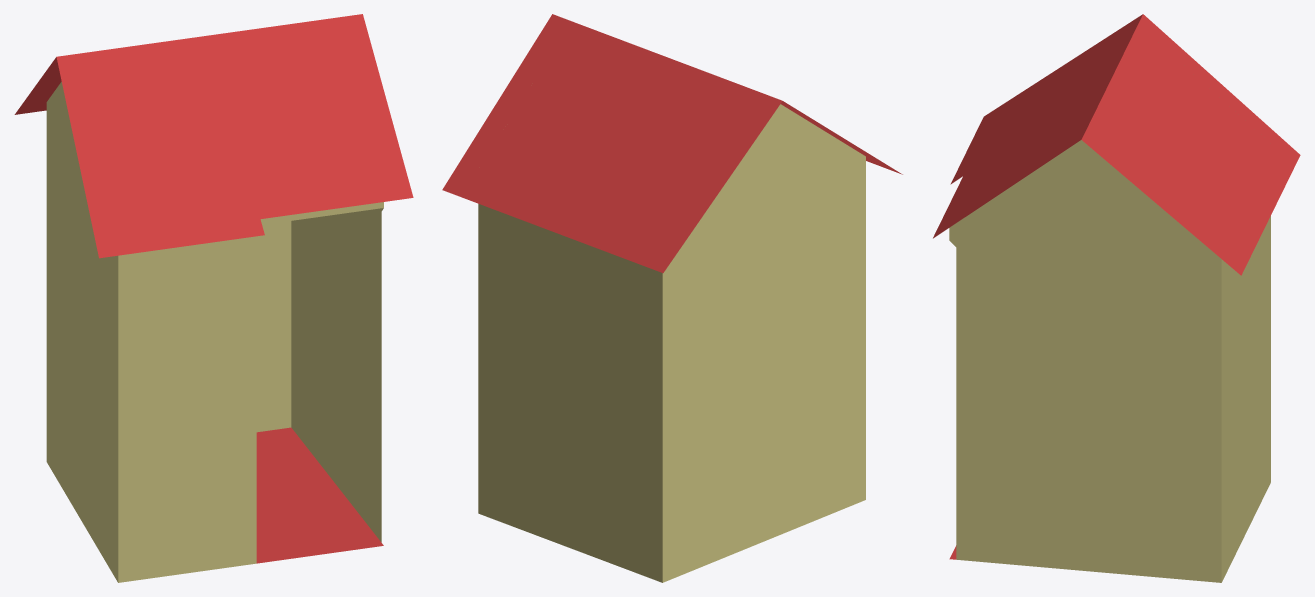
The picture shows the model from 3 angles, left to right: view 1: azimuth 30°, elevation 25°; view 2: azimuth 150°, elevation 25°; view 3: azimuth 270°, elevation 25°; orthographic projection. The views are drawn at different scales.
Size of the model in its own units: 7.43 by 7.26 by 9.61.
